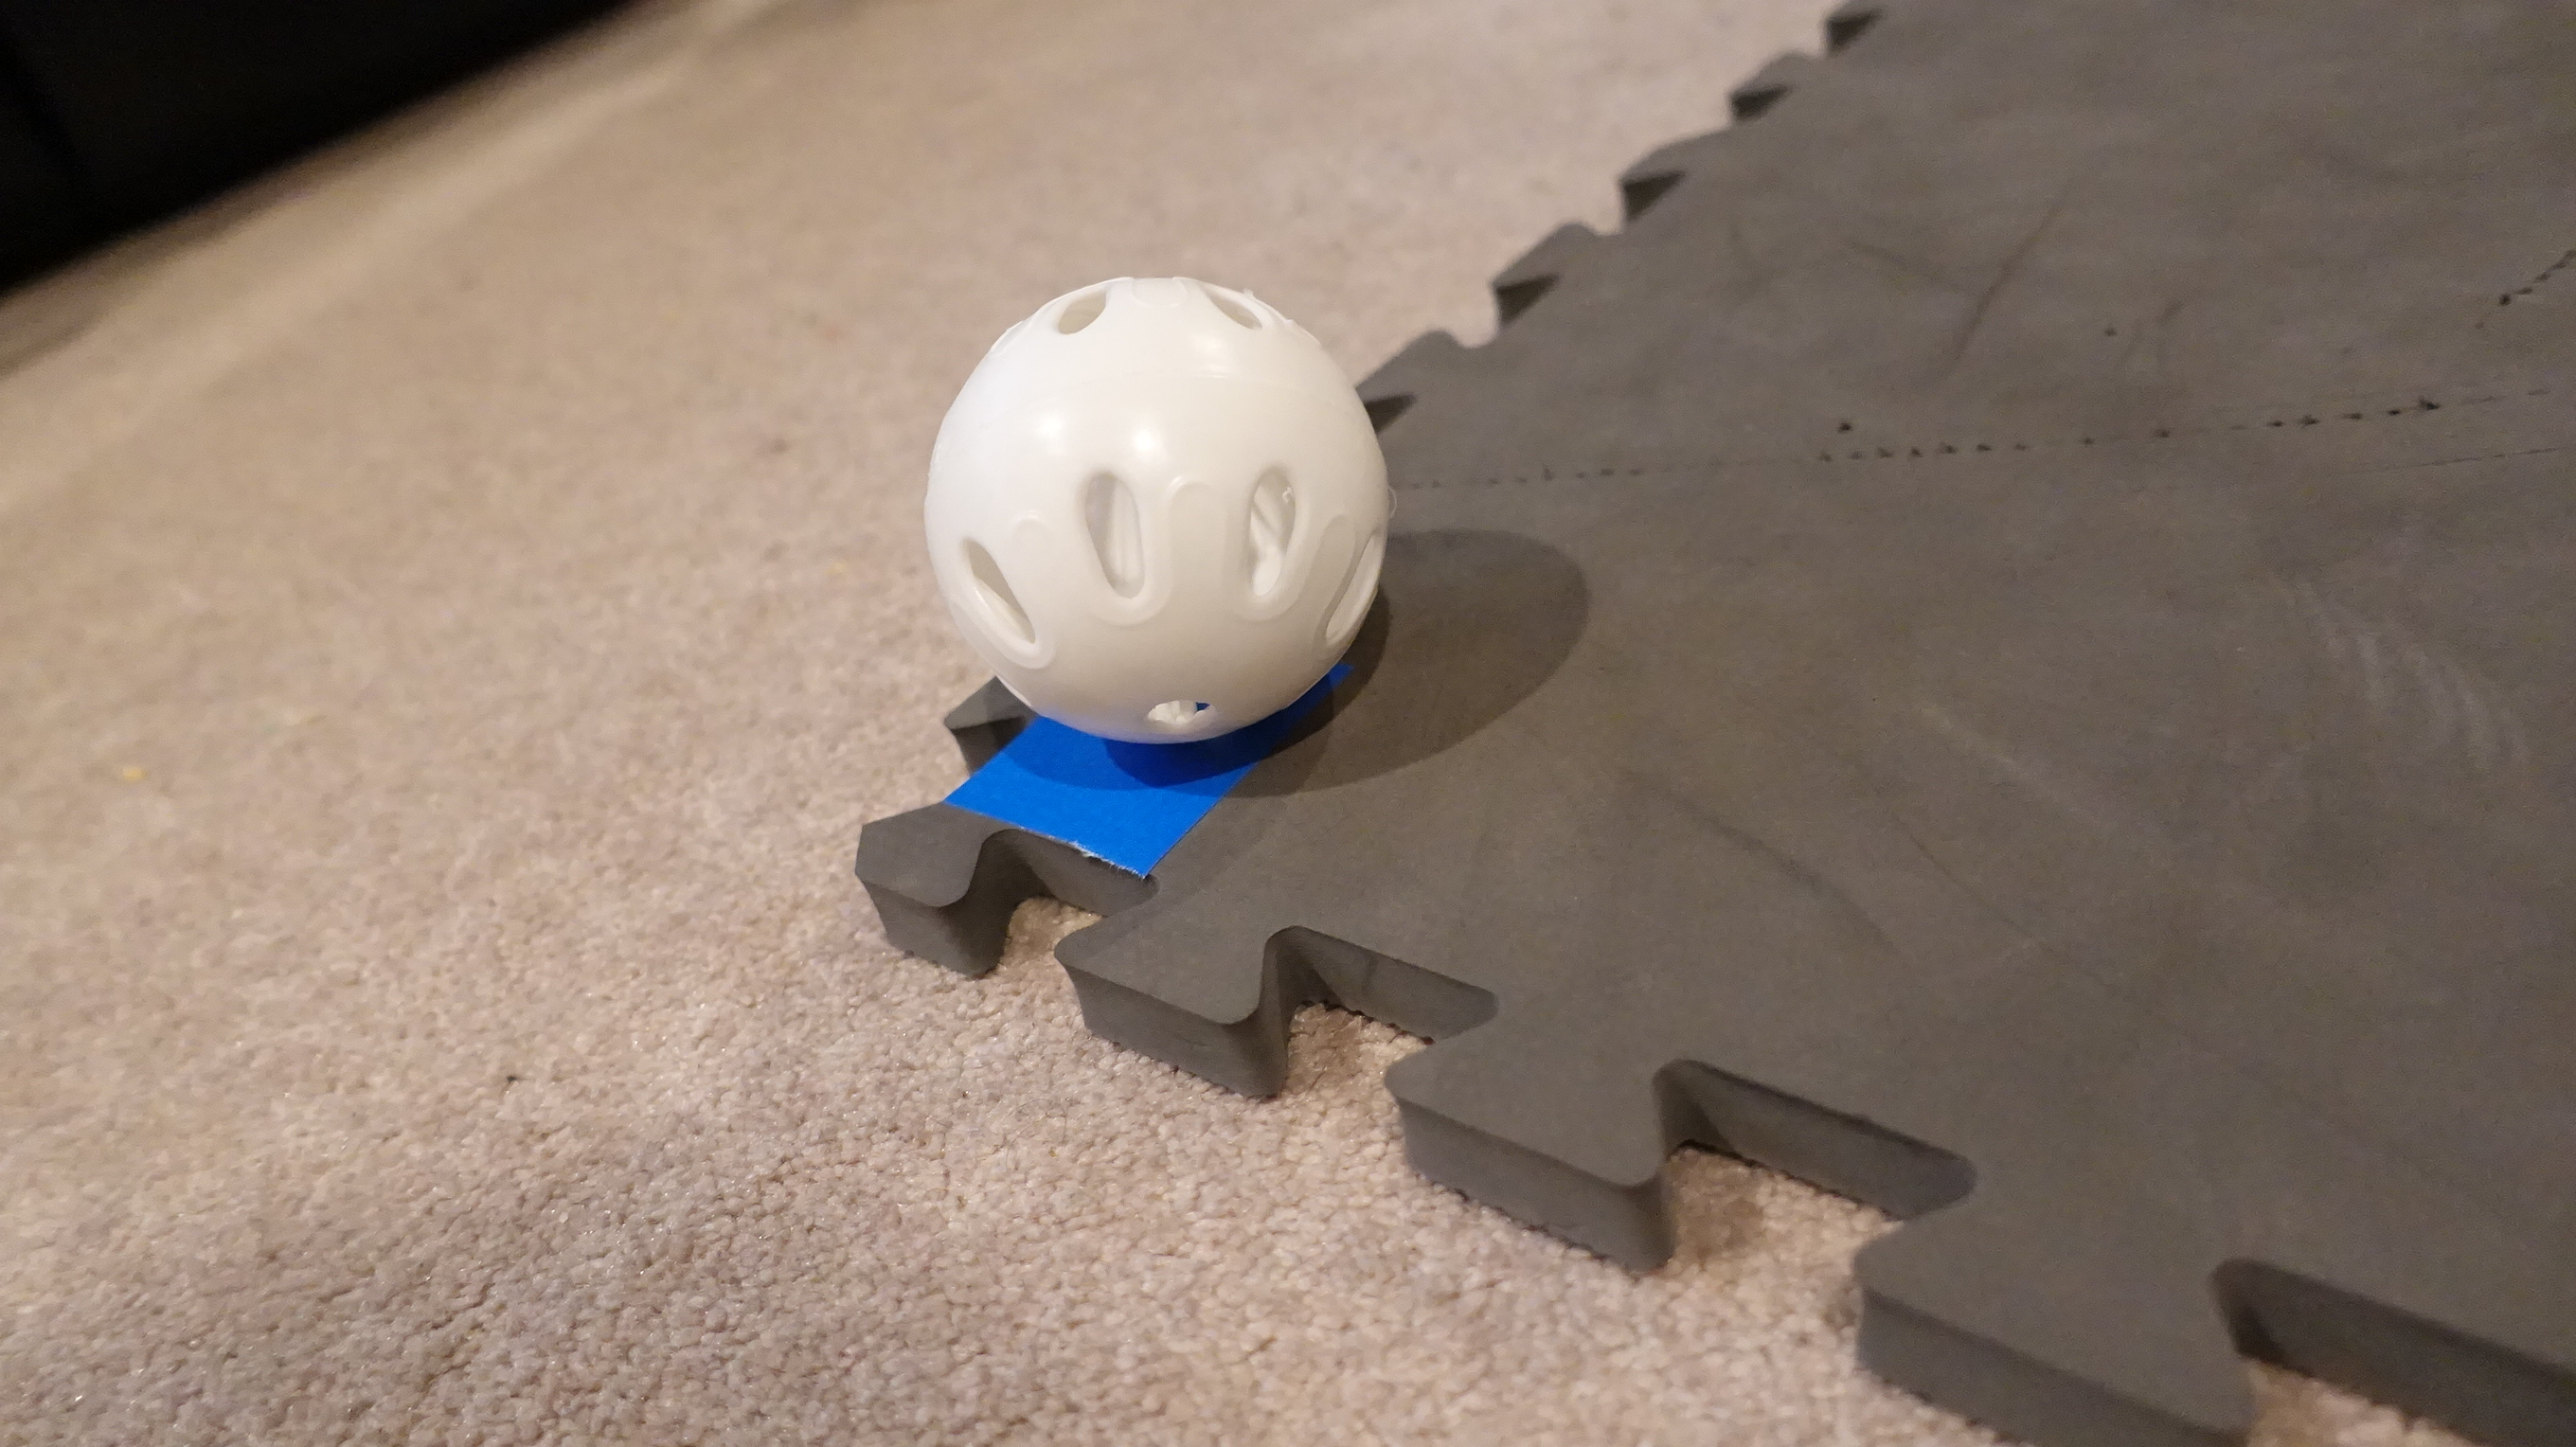silver: (918, 271, 1392, 739)
